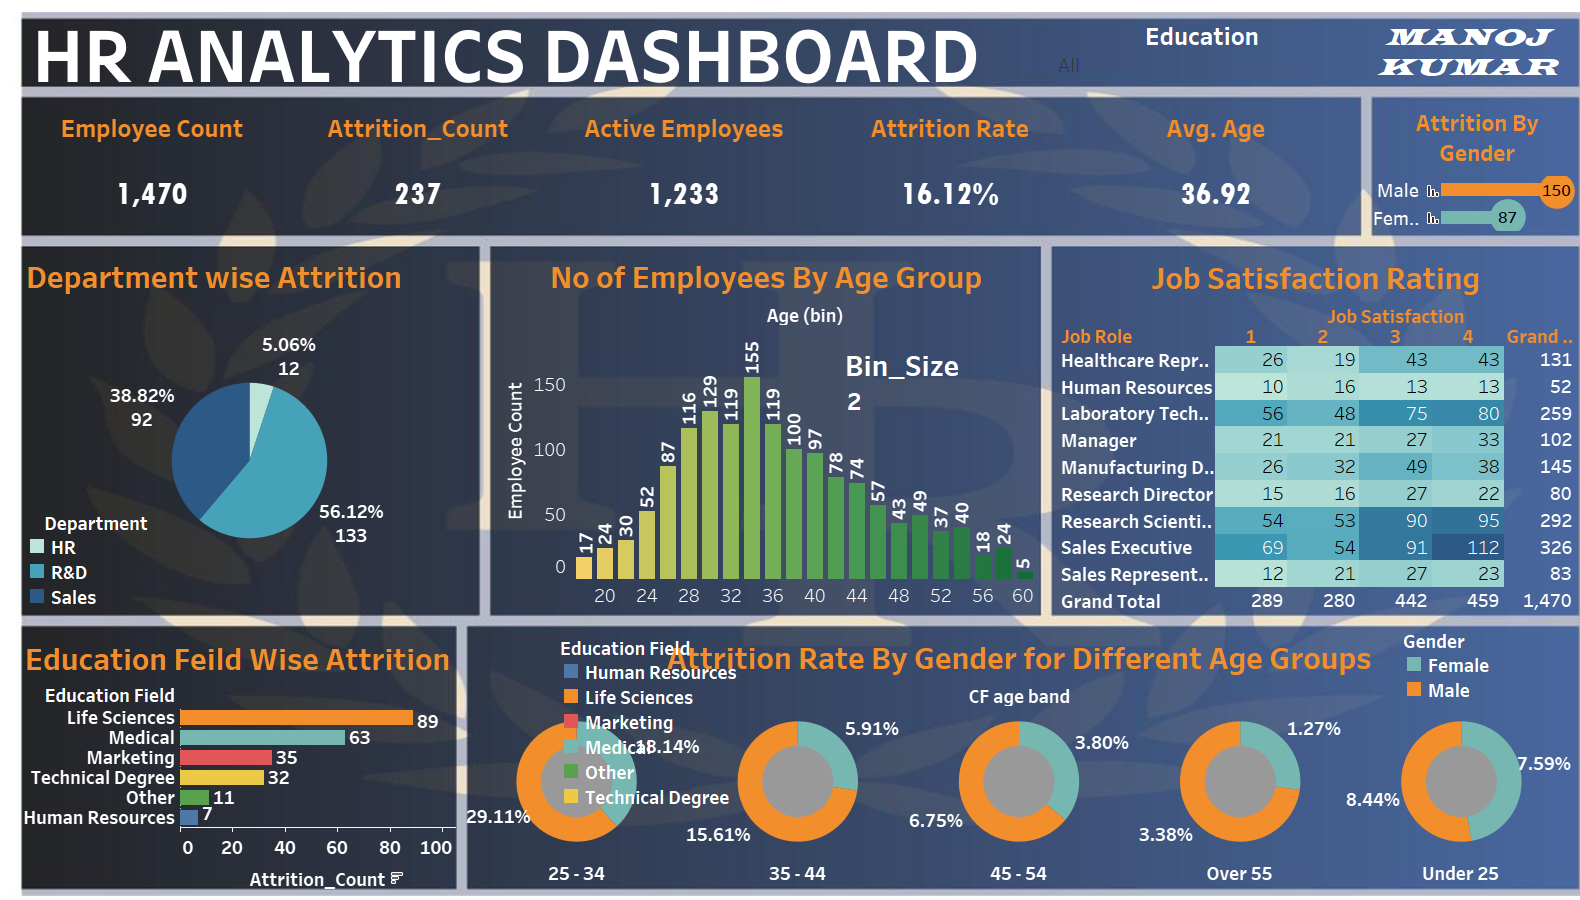

The dashboard page shown, as its layout file describes it:
{"tool":"tableau","page":{"name":"HR Dashboard","canvas":[1580,900],"ordinal":0},"visuals":[{"type":"filter","title":"Department wise Attrition","param":"[federated.1bz4b451y8k8kf19fuyom0s4q05k].[none:Education:nk]","box":[1056,18,292,67]},{"type":"text","box":[23,21,966,64]},{"type":"text","box":[1363,22,214,60]},{"type":"worksheet","title":"KPI","mark":"Automatic","box":[19,101,1333,169]},{"type":"worksheet","title":"Attrition By Gender","mark":"Automatic","rows":["Gender"],"cols":["Calculation_470907659726106624","Calculation_470907659726106624"],"box":[1373,101,208,130]},{"type":"worksheet","title":"Department wise Attrition","mark":"Pie","box":[22,249,455,367]},{"type":"worksheet","title":"No of Employees By Age Group","mark":"Bar","rows":["Employee Count"],"cols":["Age (bin)"],"box":[495,249,542,359]},{"type":"worksheet","title":"Job Satisfaction Rating","mark":"Square","rows":["Job Role"],"cols":["Job Satisfaction"],"box":[1055,250,521,364]},{"type":"parameter","param":"[Parameters].[Parameter 1]","box":[845,345,160,75]},{"type":"legend","title":"Department wise Attrition","param":"[federated.1bz4b451y8k8kf19fuyom0s4q05k].[none:Department:nk]","box":[25,508,140,101]},{"type":"worksheet","title":"Attrition Rate By Gender for Different Age Groups","mark":"Pie","rows":["Calculation_470907659754639364","Calculation_470907659754639364"],"cols":["CF_age band"],"box":[466,630,1106,256]},{"type":"legend","title":"Education Feild Wise Attrition","param":"[federated.1bz4b451y8k8kf19fuyom0s4q05k].[none:Education Field:nk]","box":[559,633,183,176]}]}

Visuals, with their boxes in screenshot pixels (x1, y1, x2, y2), scaled from the page's 1580x900 canvas onto the 1580x900 screenshot:
"Department wise Attrition" filter: (x1=1056, y1=18, x2=1348, y2=85)
text: (x1=23, y1=21, x2=989, y2=85)
text: (x1=1363, y1=22, x2=1577, y2=82)
"KPI" worksheet: (x1=19, y1=101, x2=1352, y2=270)
"Attrition By Gender" worksheet: (x1=1373, y1=101, x2=1579, y2=231)
"Department wise Attrition" worksheet (Pie marks): (x1=22, y1=249, x2=477, y2=616)
"No of Employees By Age Group" worksheet (Bar marks): (x1=495, y1=249, x2=1037, y2=608)
"Job Satisfaction Rating" worksheet (Square marks): (x1=1055, y1=250, x2=1576, y2=614)
parameter: (x1=845, y1=345, x2=1005, y2=420)
"Department wise Attrition" legend: (x1=25, y1=508, x2=165, y2=609)
"Attrition Rate By Gender for Different Age Groups" worksheet (Pie marks): (x1=466, y1=630, x2=1572, y2=886)
"Education Feild Wise Attrition" legend: (x1=559, y1=633, x2=742, y2=809)
